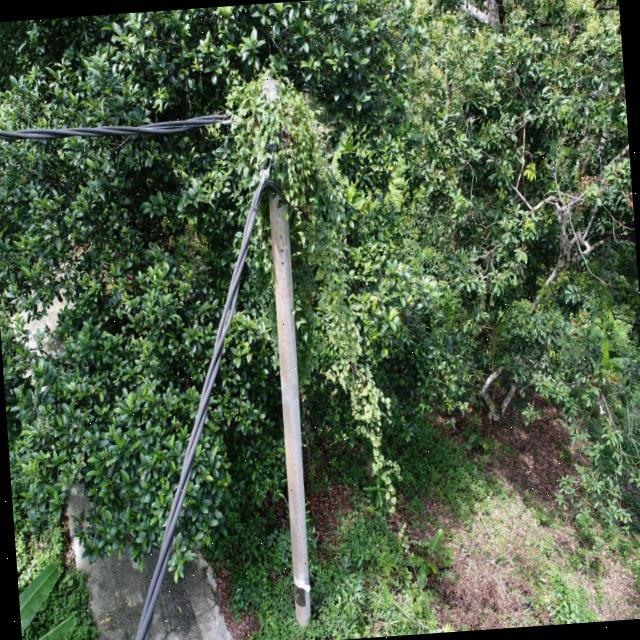critical vegetation: (210, 51, 409, 546)
